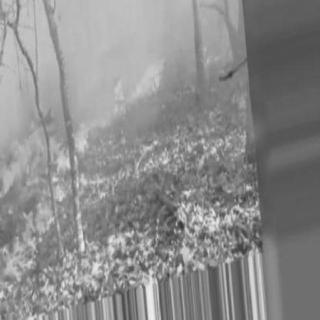Fire: (2, 123, 76, 311), (77, 50, 167, 136)
